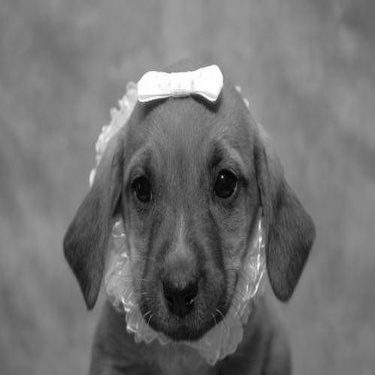dog: (57, 71, 316, 373)
